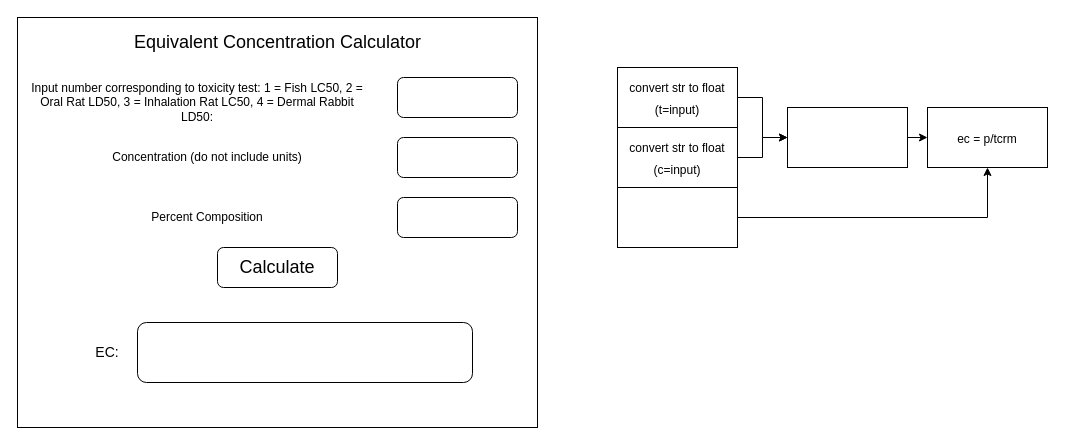
Some shapes in this 1065 by 445 pixel diagram are drawn without their labels. Each missing label, with the centre of its shape:
convert str to float (p=input): (x=677, y=217)
t & c used to determine tcrm: (x=847, y=137)
